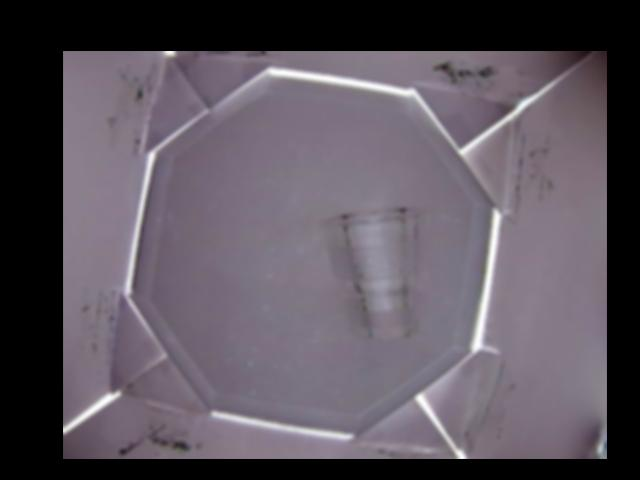Cup: (326, 207, 427, 339)
